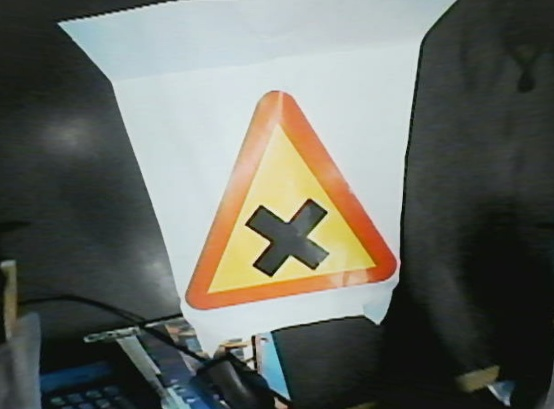junction: (166, 92, 416, 311)
